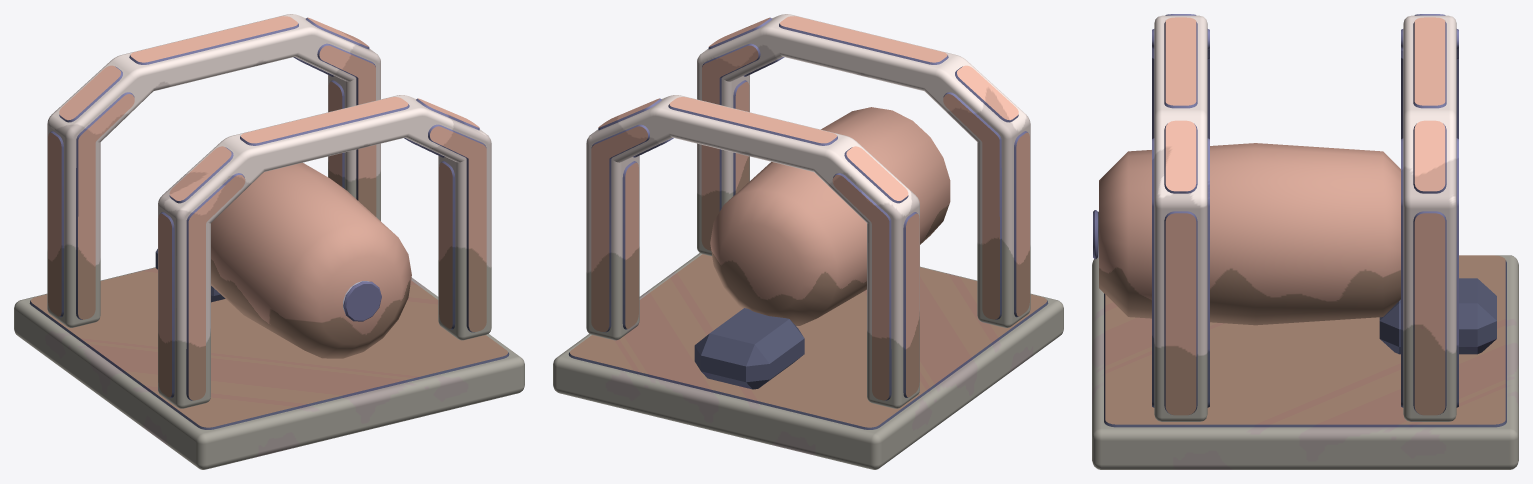
The model's file is R4X_WeaponDurabilityBooster.glb.
3 views of the same model, side by side, from view 1: azimuth 30°, elevation 25°; view 2: azimuth 150°, elevation 25°; view 3: azimuth 270°, elevation 25° (orthographic). The views are drawn at different scales.
Parts seen in each view (by area): view 1: R4X_WeaponDurabilityBooster_Body; view 2: R4X_WeaponDurabilityBooster_Body; view 3: R4X_WeaponDurabilityBooster_Body.
Boxes of the visible parts, x1,y1,x2,y2 form: R4X_WeaponDurabilityBooster_Body: (14, 14, 524, 469); R4X_WeaponDurabilityBooster_Body: (553, 14, 1063, 469); R4X_WeaponDurabilityBooster_Body: (1092, 14, 1518, 469).
Size of the model in its own units: 0.514 by 0.43 by 0.514.
Materials: 5 (4 with a texture image).
